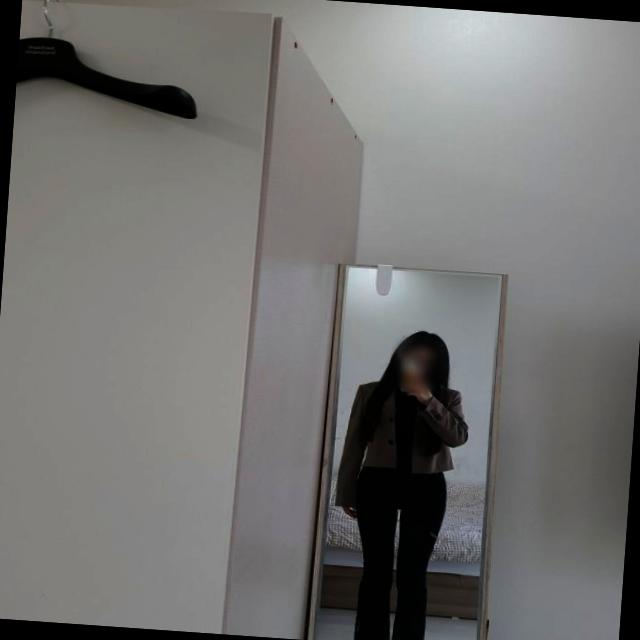blazer: (337, 376, 466, 509)
denimpants: (340, 459, 446, 640)
